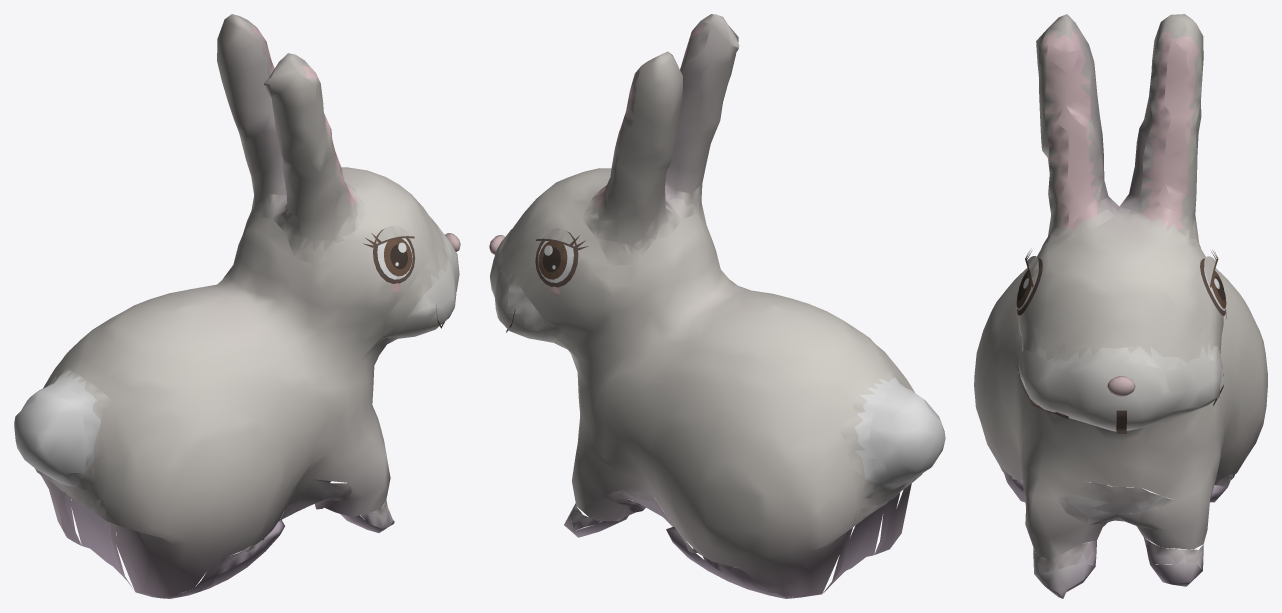
Rendered from rabbit.glb.
3 views of the same model, side by side, from view 1: azimuth 30°, elevation 25°; view 2: azimuth 150°, elevation 25°; view 3: azimuth 270°, elevation 25° (orthographic). The views are drawn at different scales.
Parts seen in each view (by area): view 1: rabbit; view 2: rabbit; view 3: rabbit.
Boxes of the visible parts, <box> form: rabbit: <box>14,14,460,598</box>; rabbit: <box>489,14,945,598</box>; rabbit: <box>974,14,1267,598</box>.
Size of the model in its own units: 0.4758 by 0.521 by 0.2577.
